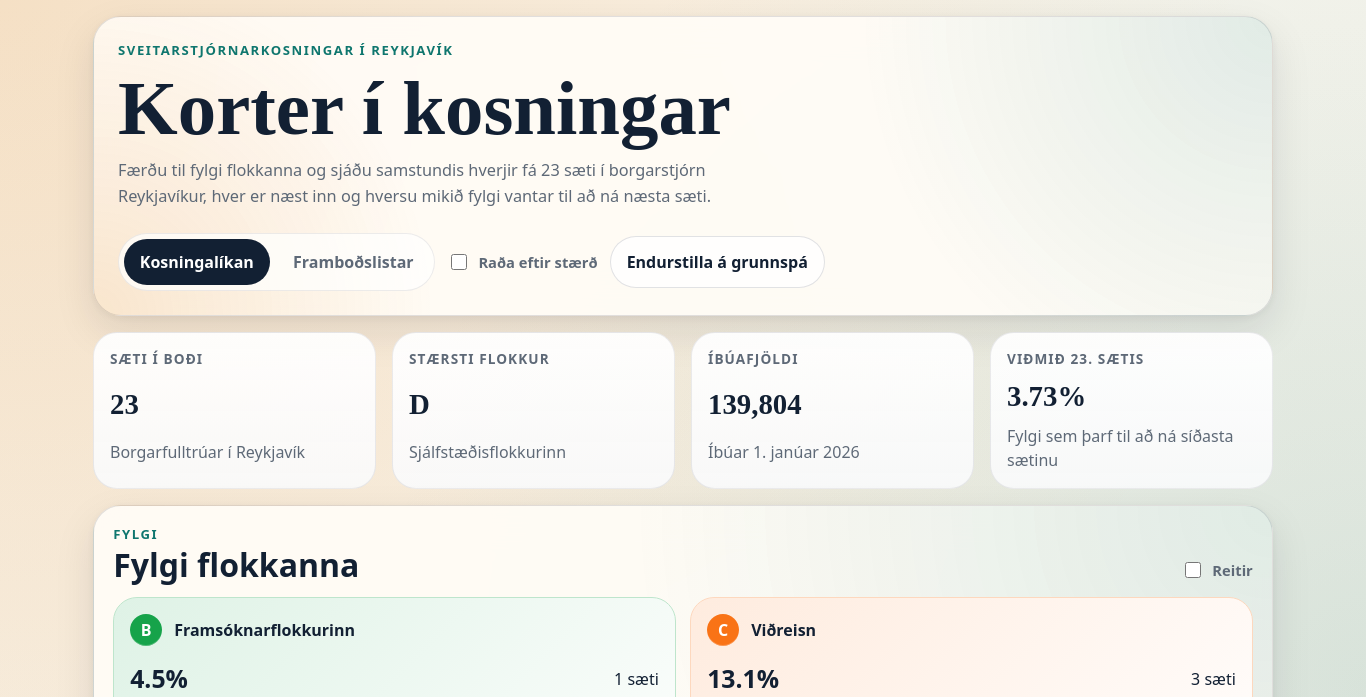
Test: App › shows direct percentage fields when Reitir is checked
Click the checkbox labelled "Reitir" at (1193, 570), box [1185, 562, 1201, 578]
(page scrolled)
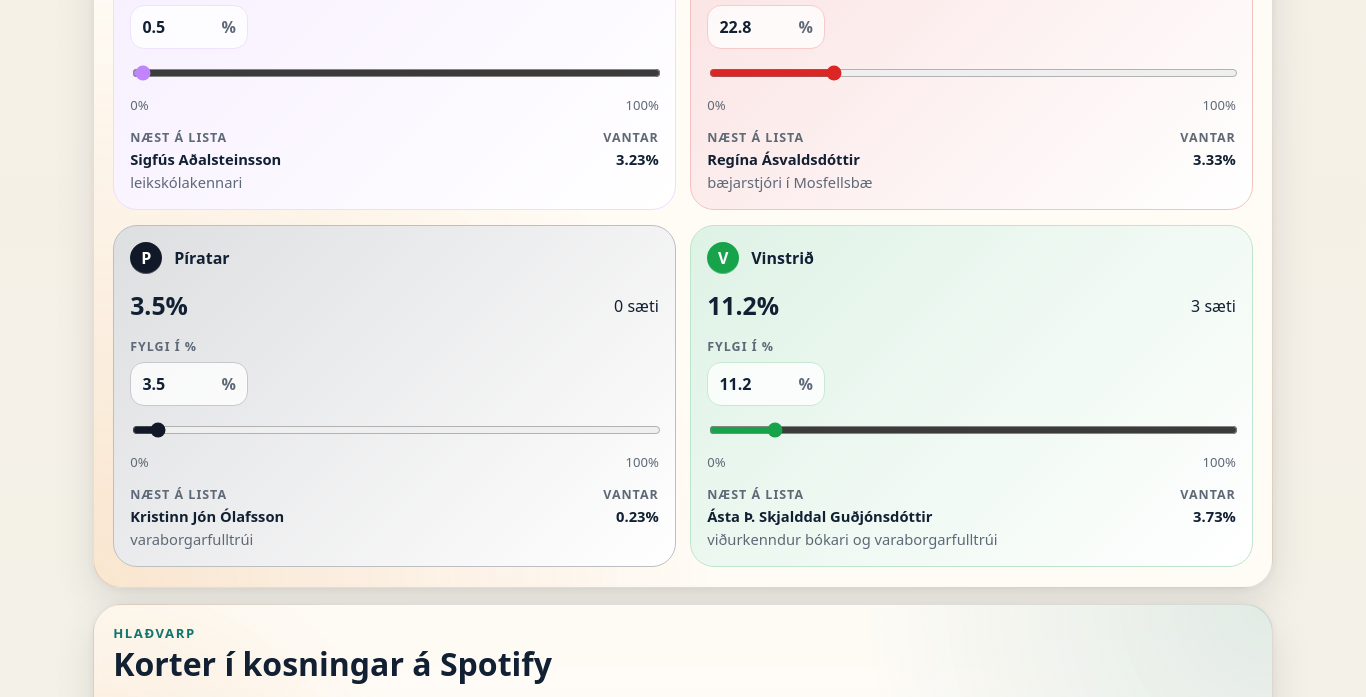
Result: the number field named "Píratar prósentur" is shown at [142, 372, 214, 396]
